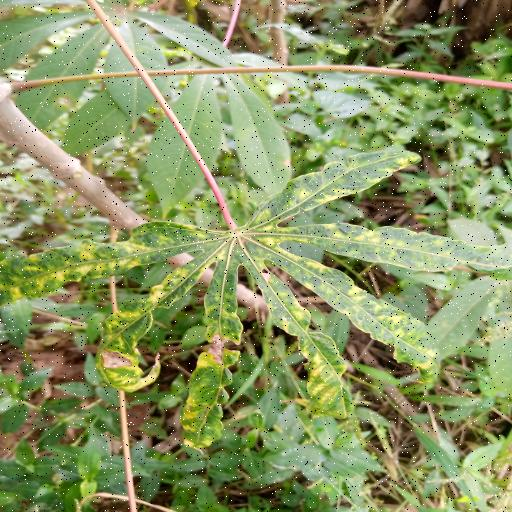Cassava_Healthy: (76, 50, 303, 200), (4, 0, 238, 134)
Cassava_Mosaic: (0, 142, 512, 447)
